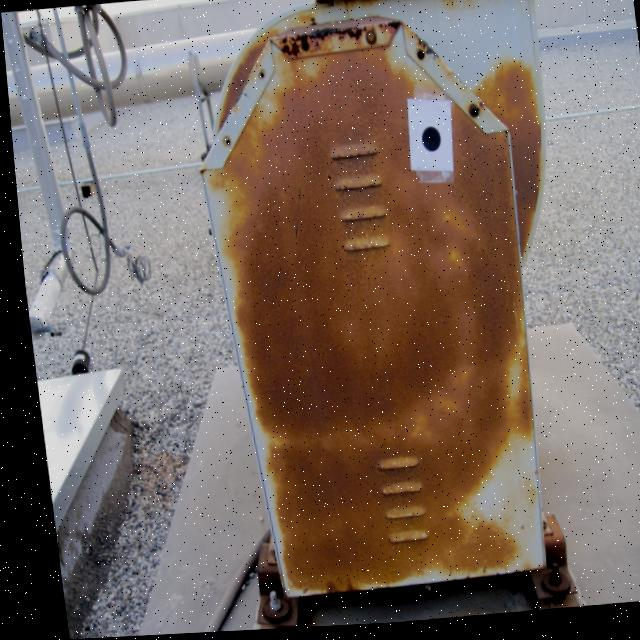corrosion: (200, 41, 525, 595), (470, 64, 537, 259), (262, 15, 402, 59), (506, 517, 568, 615), (244, 544, 292, 632), (219, 44, 265, 123), (314, 0, 407, 14)
